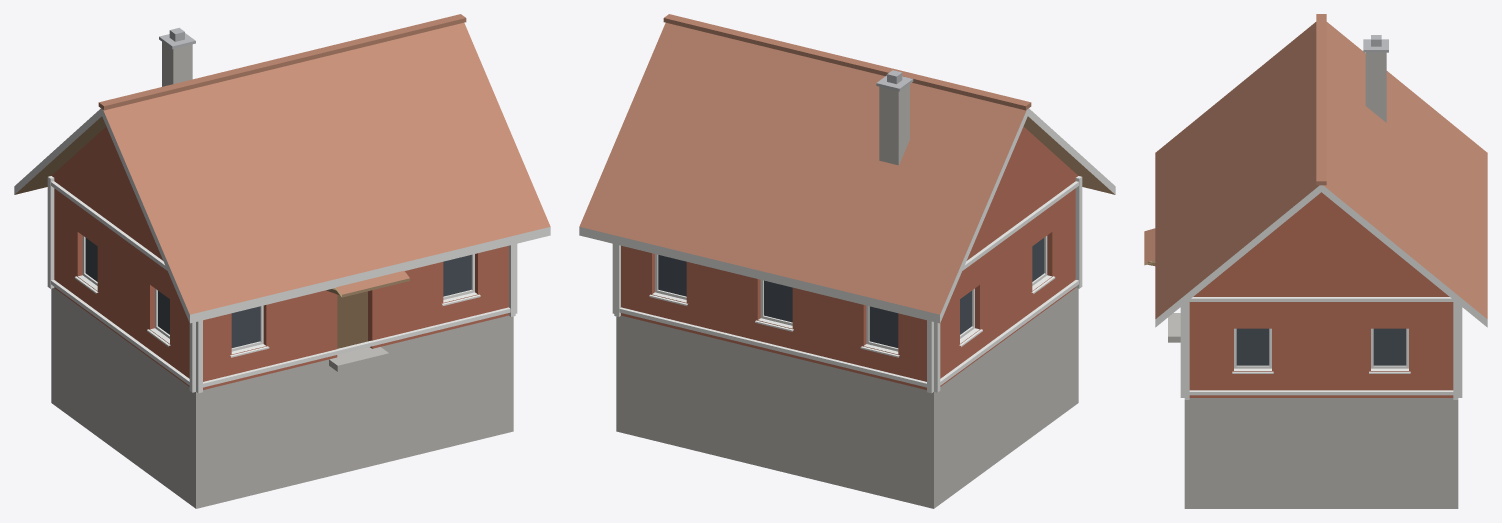
File: nordic_house_1_s.glb
The picture shows the model from 3 angles, left to right: view 1: azimuth 30°, elevation 25°; view 2: azimuth 150°, elevation 25°; view 3: azimuth 270°, elevation 25°; orthographic projection. The views are drawn at different scales.
Visible parts, largest first — view 1: nordic_house_1_s; view 2: nordic_house_1_s; view 3: nordic_house_1_s.
Boxes of the visible parts, x1,y1,x2,y2 form: nordic_house_1_s: [14, 14, 550, 508]; nordic_house_1_s: [579, 14, 1115, 508]; nordic_house_1_s: [1144, 14, 1487, 508].
Bounding box in the file's own units: 10.84 × 10.98 × 9.4.
